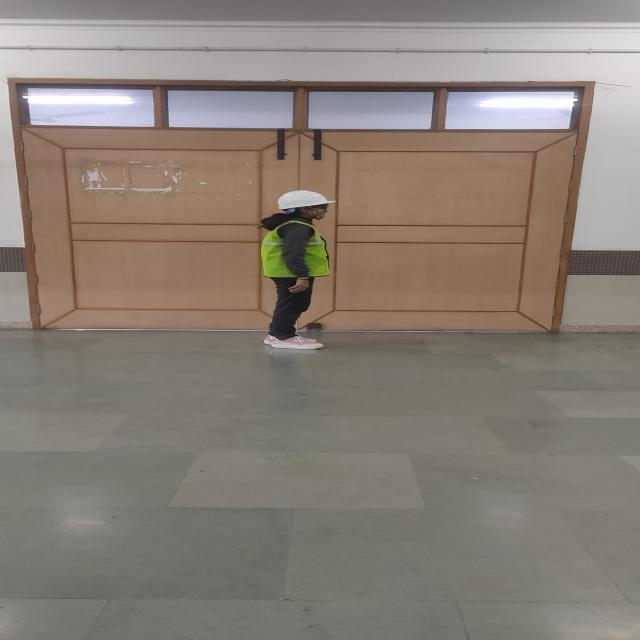safe: (261, 190, 336, 349)
